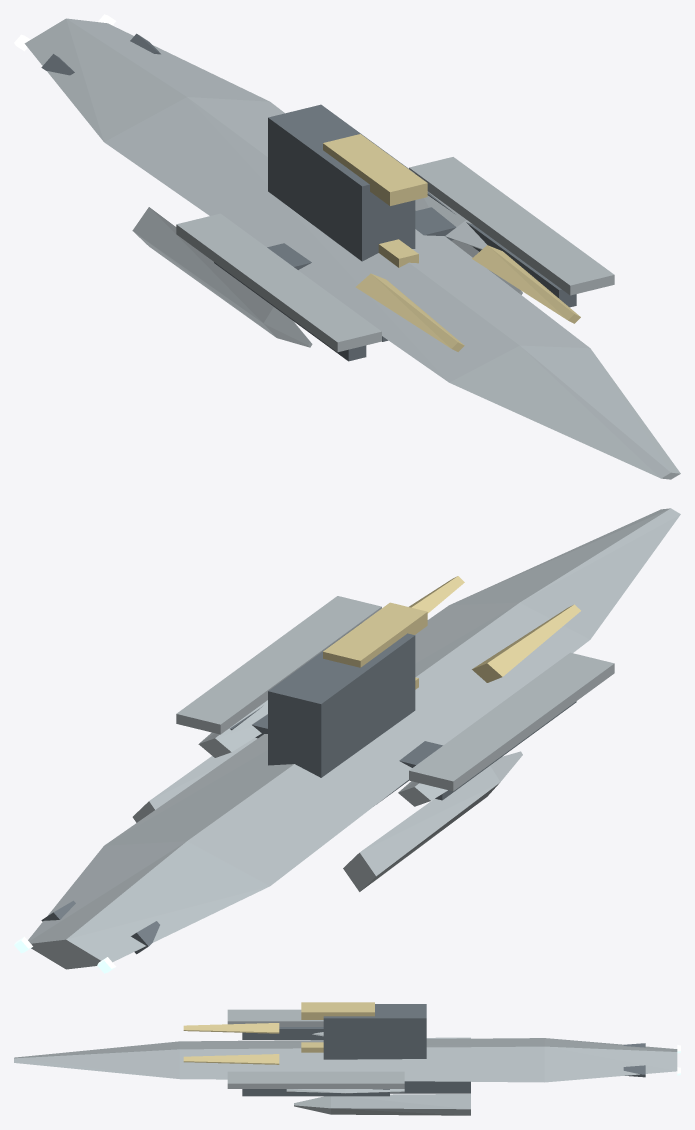
The picture shows the model from 3 angles, top to bottom: view 1: azimuth 30°, elevation 25°; view 2: azimuth 150°, elevation 25°; view 3: azimuth 270°, elevation 25°; orthographic projection. The views are drawn at different scales.
Size of the model in its own units: 4.95 by 2.5 by 18.82.
